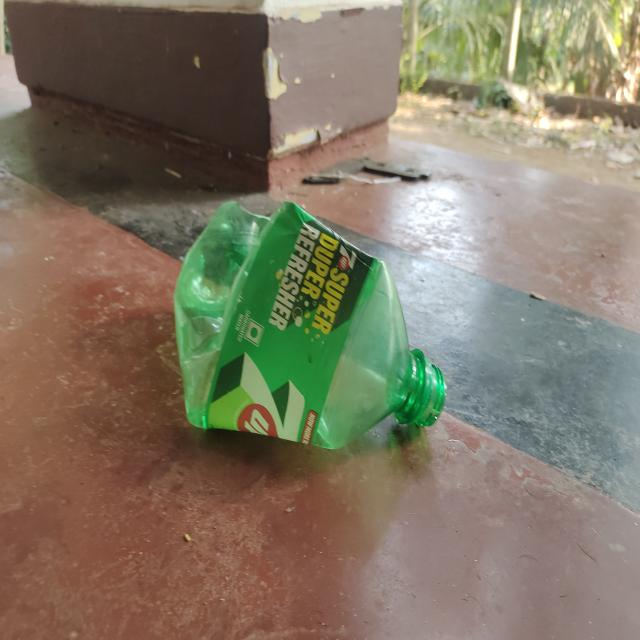plastic: (170, 192, 447, 452)
